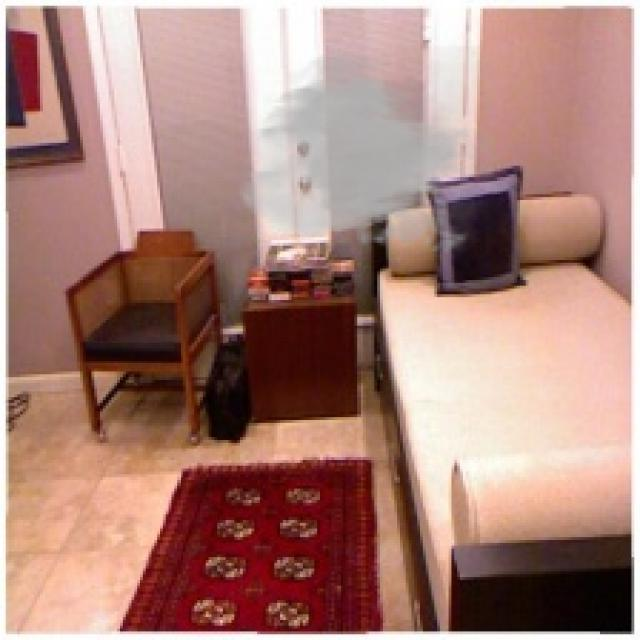Smoke: (235, 46, 494, 260)
